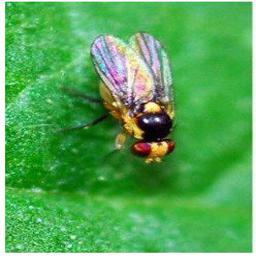liriomyza: (50, 30, 178, 164)
